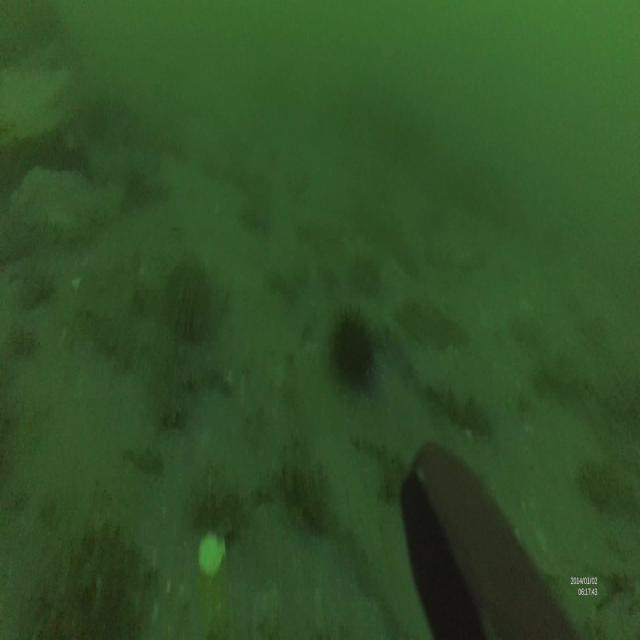echinus: (332, 308, 376, 398)
scallop: (198, 531, 226, 580)
starfish: (10, 159, 99, 245)
